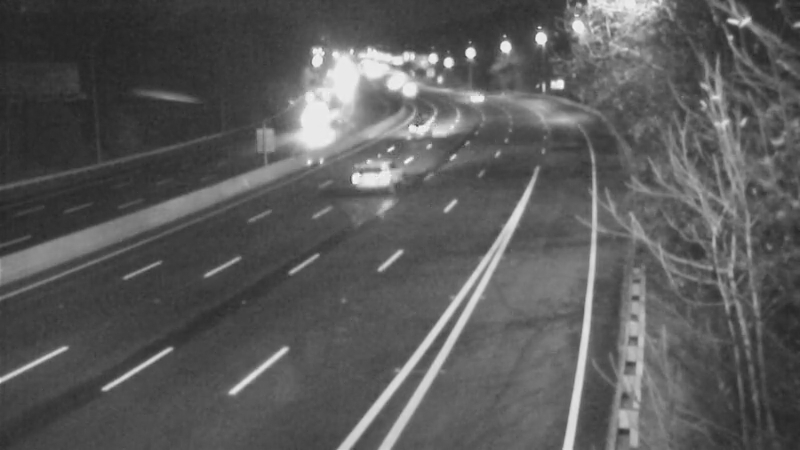vehicle: (334, 137, 414, 217), (450, 68, 500, 118), (394, 102, 444, 152), (295, 93, 345, 143)
